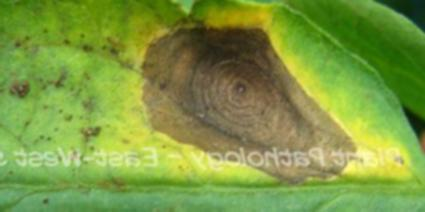Tomato Early blight leaf: (0, 0, 425, 208)
